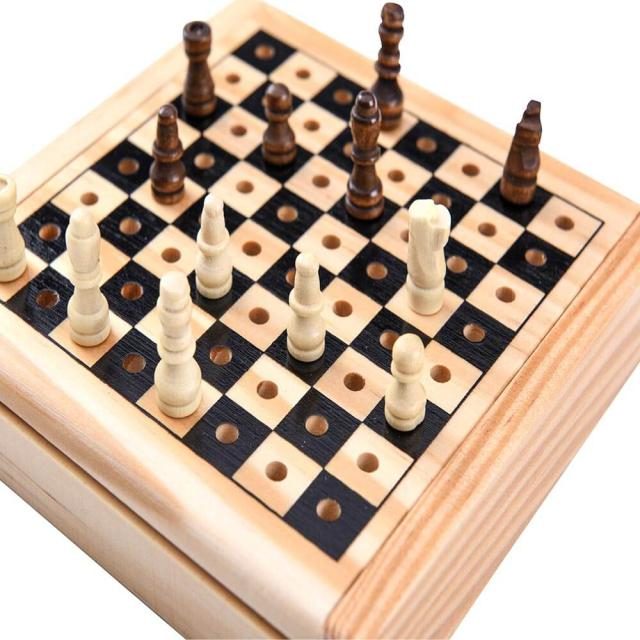chessboard: (0, 29, 605, 566)
